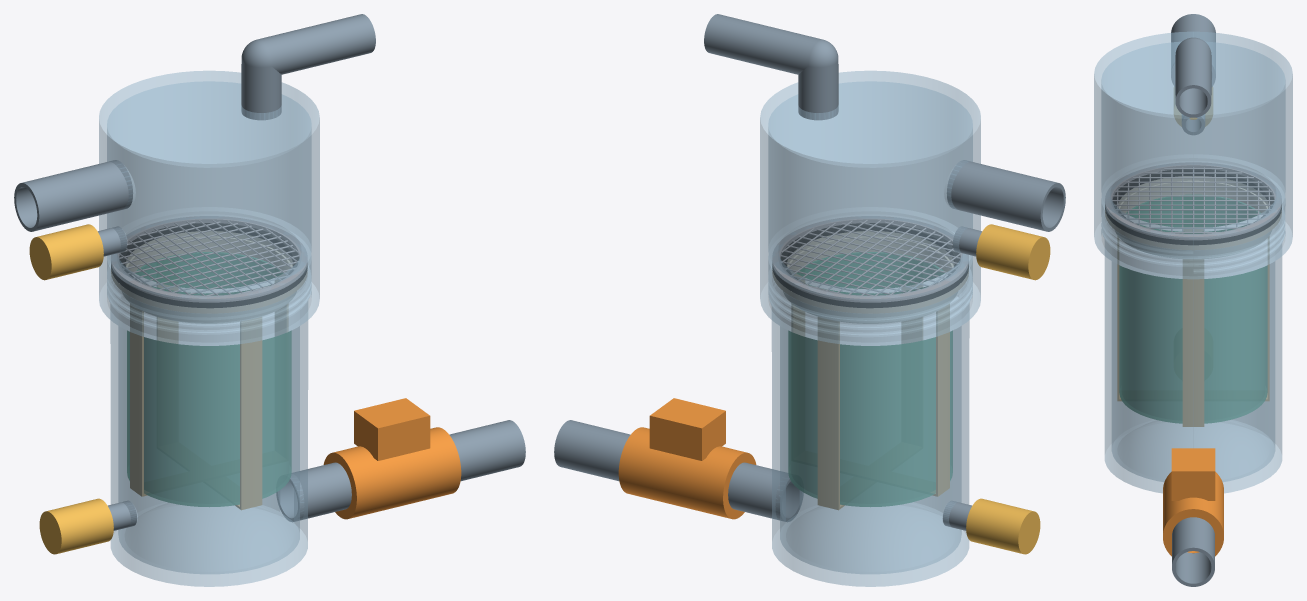
The model's file is microfiber_filter_v8.glb.
3 views of the same model, side by side, from view 1: azimuth 30°, elevation 25°; view 2: azimuth 150°, elevation 25°; view 3: azimuth 270°, elevation 25° (orthographic). The views are drawn at different scales.
Parts seen in each view (by area): view 1: Stage2_Bottom_Housing, Stage1_Top_Housing, Fine_Fibre_Basket, Flow_Rate_Sensor, Coarse_Mesh_Disc, Overflow_Pipe, Water_Inlet, Plastic_Support_Ring, Cloth_Strap_2, Outlet_Pipe, Final_Outlet, P2_Pressure_Sensor (+5 smaller); view 2: Stage2_Bottom_Housing, Stage1_Top_Housing, Fine_Fibre_Basket, Flow_Rate_Sensor, Coarse_Mesh_Disc, Overflow_Pipe, Water_Inlet, Plastic_Support_Ring, Cloth_Strap_2, Outlet_Pipe, Final_Outlet, P2_Pressure_Sensor (+5 smaller); view 3: Stage1_Top_Housing, Stage2_Bottom_Housing, Fine_Fibre_Basket, Coarse_Mesh_Disc, Flow_Rate_Sensor, Plastic_Support_Ring, Cloth_Strap_1, Overflow_Pipe, Final_Outlet, Rubber_Sealing_Ring, Water_Inlet, Cloth_Strap_2 (+2 smaller).
Boxes of the visible parts, x1,y1,x2,y2 form: Stage2_Bottom_Housing: (108, 266, 310, 586); Stage1_Top_Housing: (99, 70, 319, 345); Fine_Fibre_Basket: (127, 252, 291, 506); Flow_Rate_Sensor: (323, 398, 461, 519); Coarse_Mesh_Disc: (111, 216, 307, 302); Overflow_Pipe: (241, 14, 375, 120); Water_Inlet: (14, 160, 132, 231); Plastic_Support_Ring: (111, 231, 307, 323); Cloth_Strap_2: (157, 283, 262, 510); Outlet_Pipe: (276, 462, 351, 521); Final_Outlet: (449, 420, 525, 481); P2_Pressure_Sensor: (39, 498, 113, 554); Stage2_Bottom_Housing: (769, 268, 972, 586); Stage1_Top_Housing: (760, 70, 980, 345); Fine_Fibre_Basket: (788, 252, 952, 506); Flow_Rate_Sensor: (618, 398, 756, 519); Coarse_Mesh_Disc: (772, 216, 968, 302); Overflow_Pipe: (704, 14, 838, 120); Water_Inlet: (946, 160, 1065, 231); Plastic_Support_Ring: (772, 231, 968, 323); Cloth_Strap_2: (817, 283, 922, 510); Outlet_Pipe: (728, 462, 803, 521); Final_Outlet: (554, 420, 630, 481); P2_Pressure_Sensor: (966, 498, 1040, 554); Stage1_Top_Housing: (1094, 31, 1292, 279); Stage2_Bottom_Housing: (1102, 209, 1284, 493); Fine_Fibre_Basket: (1119, 197, 1267, 423); Coarse_Mesh_Disc: (1105, 162, 1281, 240); Flow_Rate_Sensor: (1163, 448, 1223, 556); Plastic_Support_Ring: (1105, 176, 1281, 258); Cloth_Strap_1: (1182, 229, 1204, 426); Overflow_Pipe: (1175, 37, 1211, 117); Final_Outlet: (1172, 517, 1214, 586); Rubber_Sealing_Ring: (1105, 169, 1281, 245); Water_Inlet: (1171, 14, 1215, 86); Cloth_Strap_2: (1117, 236, 1269, 401).
Bounding box in the file's own units: 0.28 × 0.272 × 0.11.
